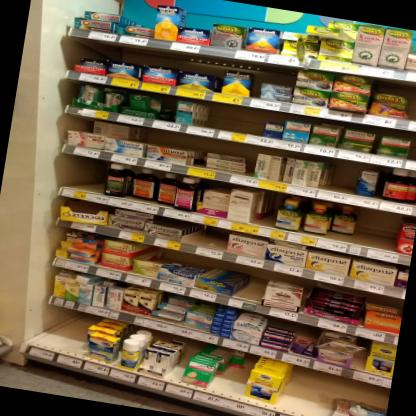empty_space: (275, 367, 339, 416), (33, 309, 88, 352), (206, 103, 264, 133), (356, 208, 397, 247), (69, 155, 105, 193), (216, 364, 247, 397), (192, 226, 228, 249), (246, 277, 265, 298), (409, 86, 416, 123), (408, 133, 416, 161)
